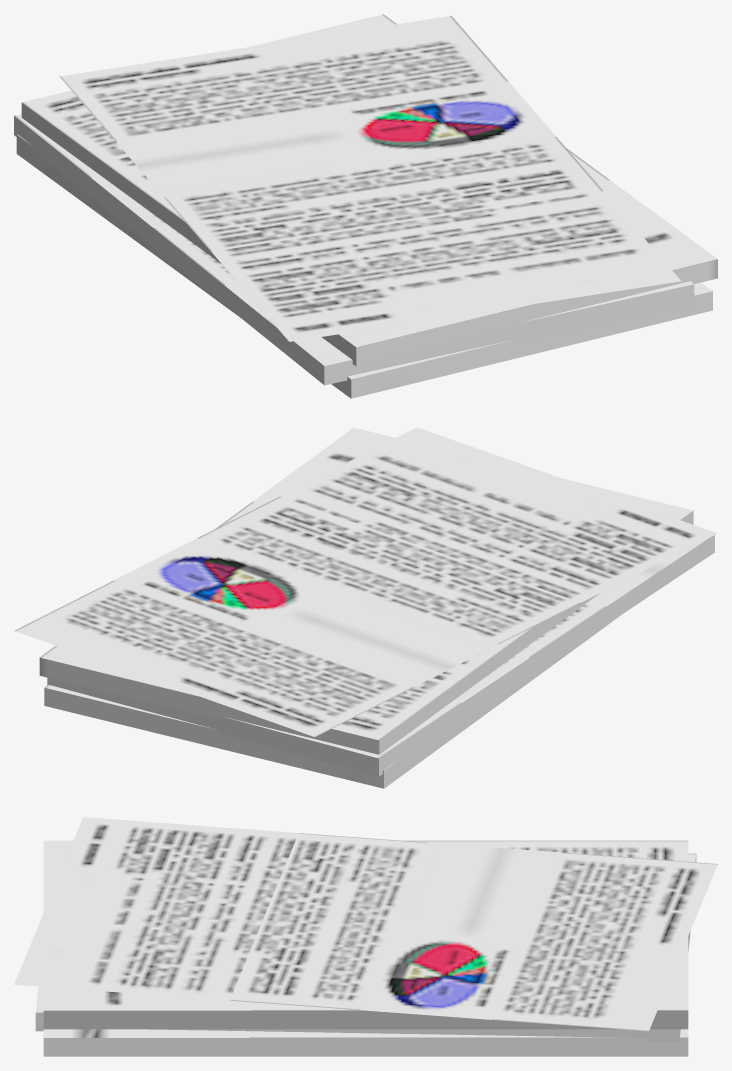
Rendered from document_stack_1.fbx.
The picture shows the model from 3 angles, top to bottom: view 1: azimuth 30°, elevation 25°; view 2: azimuth 150°, elevation 25°; view 3: azimuth 270°, elevation 25°; orthographic projection. The views are drawn at different scales.
Visible parts, largest first — view 1: document_stack_1; view 2: document_stack_1; view 3: document_stack_1.
Boxes of the visible parts, <box> form: document_stack_1: <box>14,14,717,398</box>; document_stack_1: <box>14,427,717,788</box>; document_stack_1: <box>14,817,717,1056</box>.
Bounding box in the file's own units: 24.29 × 2.65 × 33.72.
